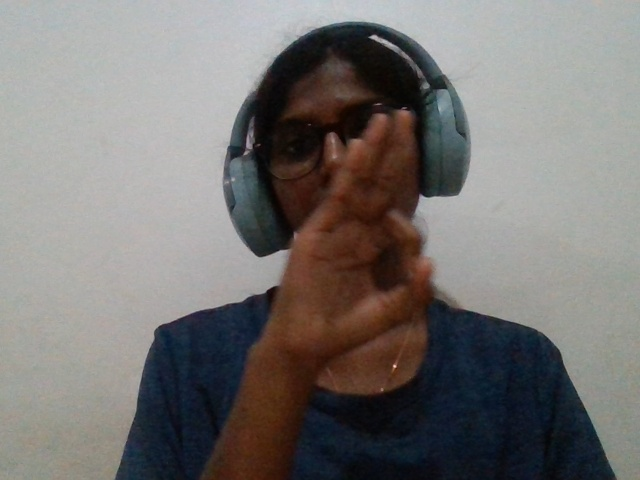F: (205, 86, 475, 414)
